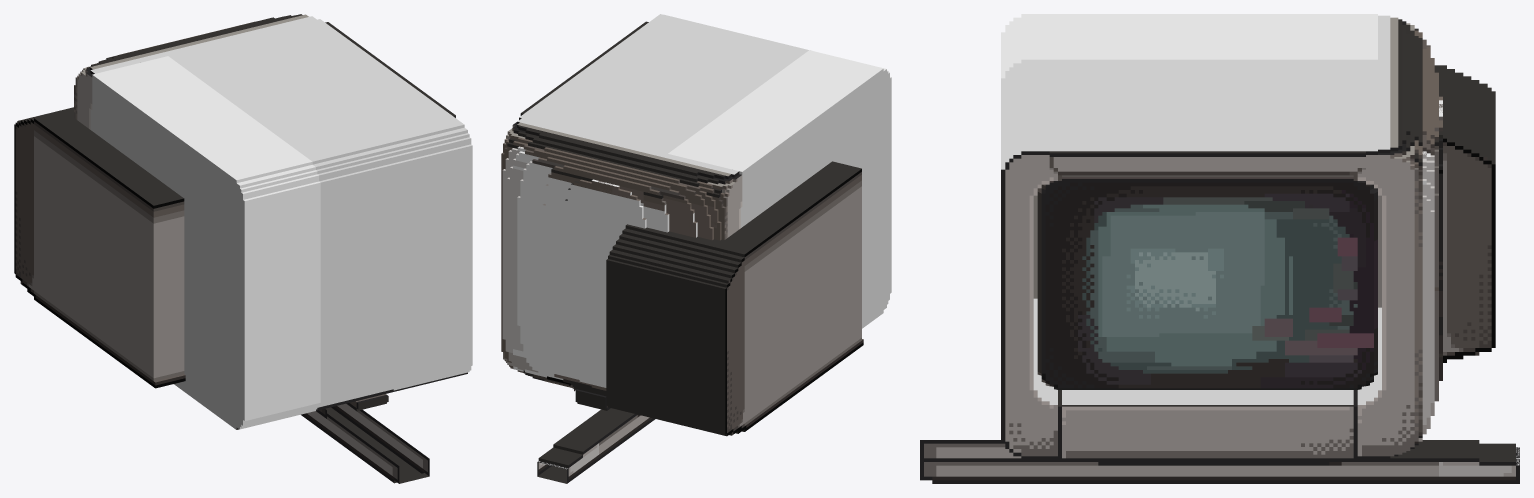
The model's file is screen.glb.
3 renders of one model, left to right at view 1: azimuth 30°, elevation 25°; view 2: azimuth 150°, elevation 25°; view 3: azimuth 270°, elevation 25°, orthographic. The views are drawn at different scales.
Visible parts, largest first — view 1: Compute Frame, Back, Computer Frame Butt, Stand, Compute Frame Flipped; view 2: Computer Frame Butt, Computer Frame Side, Back, Compute Frame, Computer Frame Side Flipped, Stand, Compute Frame Flipped; view 3: Compute Frame, Screen, Back, Stand, Computer Frame Butt, Computer Frame Side, Computer Frame Side Flipped, Compute Frame Flipped.
Boxes of the visible parts, x1=… form: Compute Frame: x1=159, y1=14, x2=472, y2=410; Back: x1=90, y1=56, x2=320, y2=429; Computer Frame Butt: x1=14, y1=107, x2=185, y2=388; Stand: x1=301, y1=394, x2=429, y2=483; Compute Frame Flipped: x1=74, y1=49, x2=167, y2=129; Computer Frame Butt: x1=606, y1=161, x2=863, y2=436; Computer Frame Side: x1=502, y1=129, x2=627, y2=395; Back: x1=668, y1=50, x2=891, y2=328; Compute Frame: x1=501, y1=14, x2=811, y2=368; Computer Frame Side Flipped: x1=597, y1=151, x2=721, y2=396; Stand: x1=537, y1=389, x2=655, y2=483; Compute Frame Flipped: x1=658, y1=154, x2=742, y2=239; Compute Frame: x1=1001, y1=59, x2=1422, y2=461; Screen: x1=1037, y1=177, x2=1377, y2=389; Back: x1=1001, y1=14, x2=1377, y2=298; Stand: x1=920, y1=440, x2=1519, y2=483; Computer Frame Butt: x1=1378, y1=65, x2=1495, y2=362; Computer Frame Side: x1=1402, y1=78, x2=1442, y2=441; Computer Frame Side Flipped: x1=1402, y1=25, x2=1442, y2=112; Compute Frame Flipped: x1=1378, y1=15, x2=1418, y2=59.
Bounding box in the file's own units: 0.86 × 0.9626 × 1.38.
12 materials, 1 textured.
